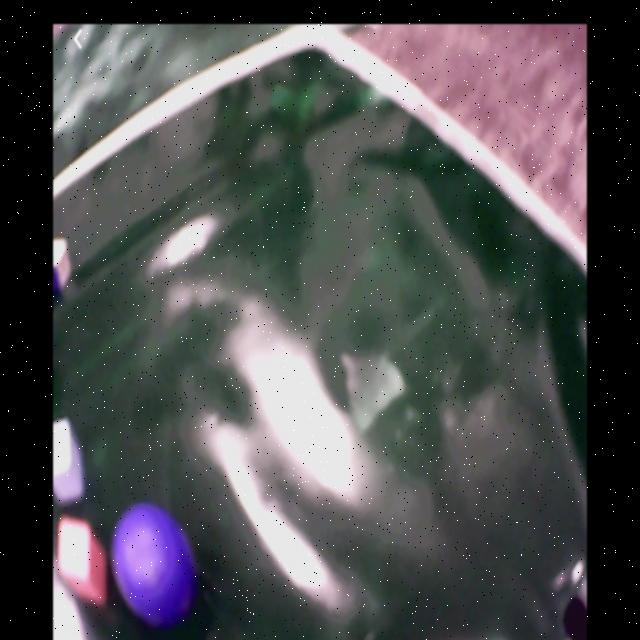ball: (113, 502, 191, 621)
